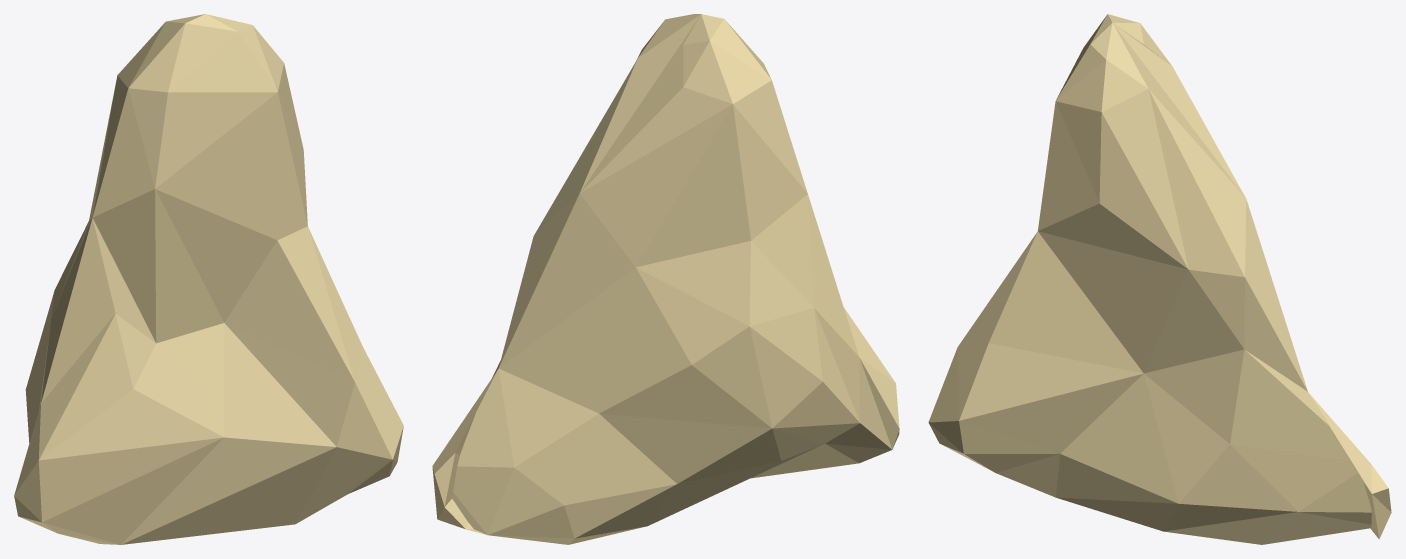
File: Rock (56).fbx
3 renders of one model, left to right at view 1: azimuth 30°, elevation 25°; view 2: azimuth 150°, elevation 25°; view 3: azimuth 270°, elevation 25°, orthographic. The views are drawn at different scales.
Parts seen in each view (by area): view 1: Asteroid55; view 2: Asteroid55; view 3: Asteroid55.
Part boxes in pixels (x1,y1,x2,y2): Asteroid55: [14, 14, 403, 544]; Asteroid55: [432, 14, 899, 544]; Asteroid55: [928, 14, 1391, 544].
Bounding box in the file's own units: 71.7 × 100 × 86.28.
